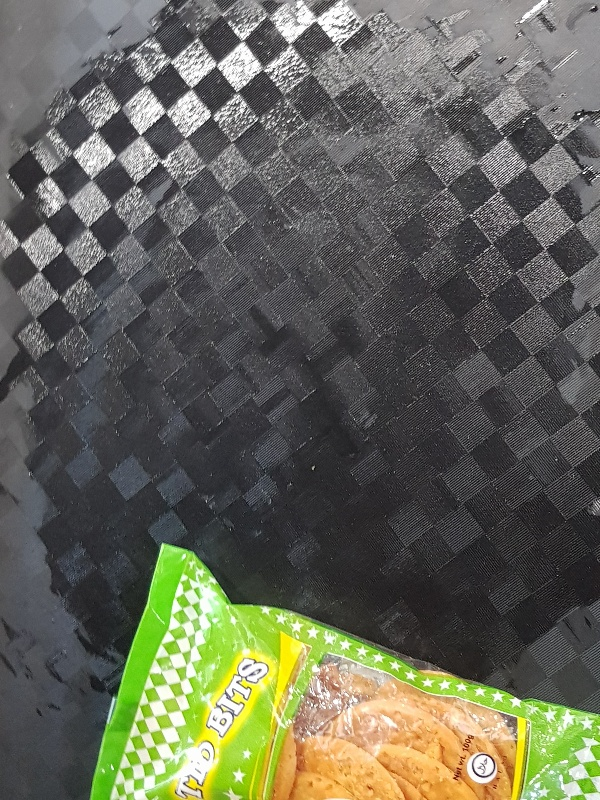Star Tidbits 'O' Ring: (90, 542, 600, 799)
